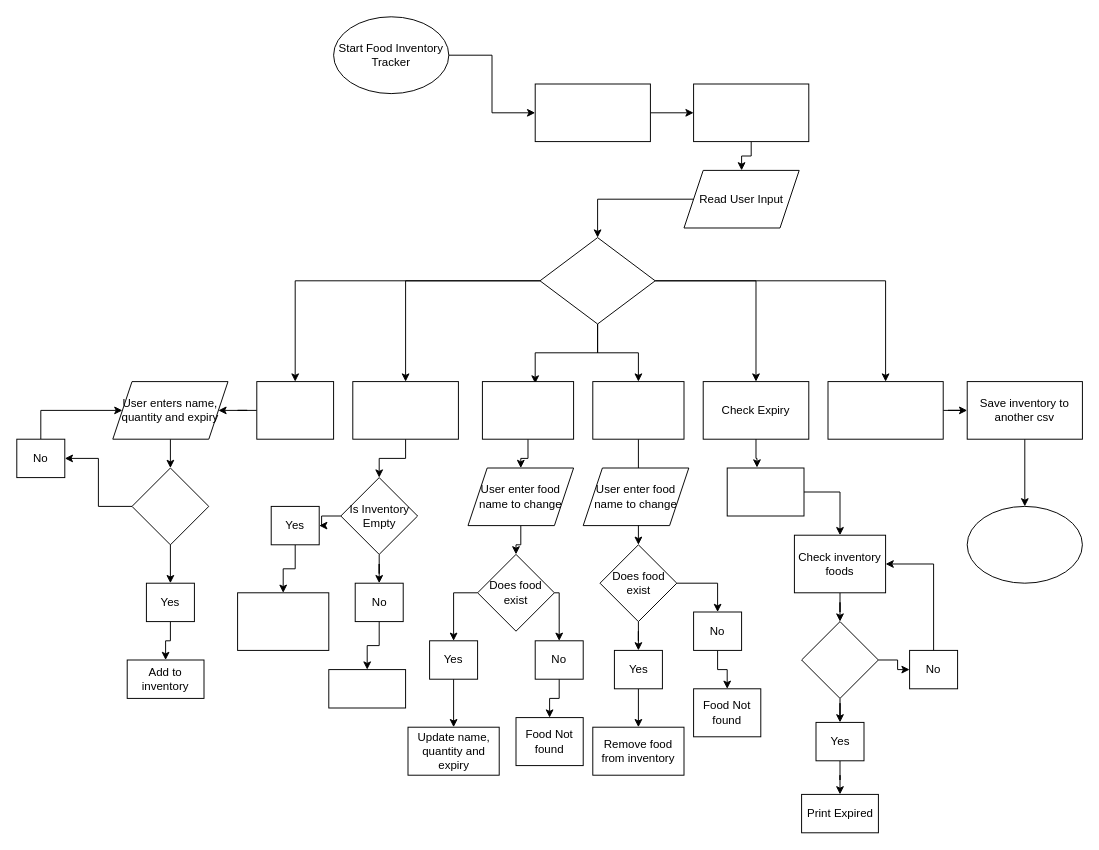
Image size: 1099x850. Some labels were removed from this diagram. The shapes that lost their labels are listed below. From the top down, each one's centre as x and y in pixels, then its label:
At pixel 592 112: "Make ArrayList using CSV file data".
At pixel 751 112: "Display Menu of options for user".
At pixel 597 280: "Which option was picked?".
At pixel 295 410: "Add food".
At pixel 405 410: "View Inventory".
At pixel 527 410: "Edit Food".
At pixel 638 410: "Delete Food".
At pixel 885 410: "Exit".
At pixel 170 506: "Is Input valid".
At pixel 765 491: "Get Todays Date".
At pixel 1024 544: "End Program".
At pixel 283 621: "Print Inventory Empty".
At pixel 839 659: "Is it Expired".
At pixel 367 688: "Display inventory".
